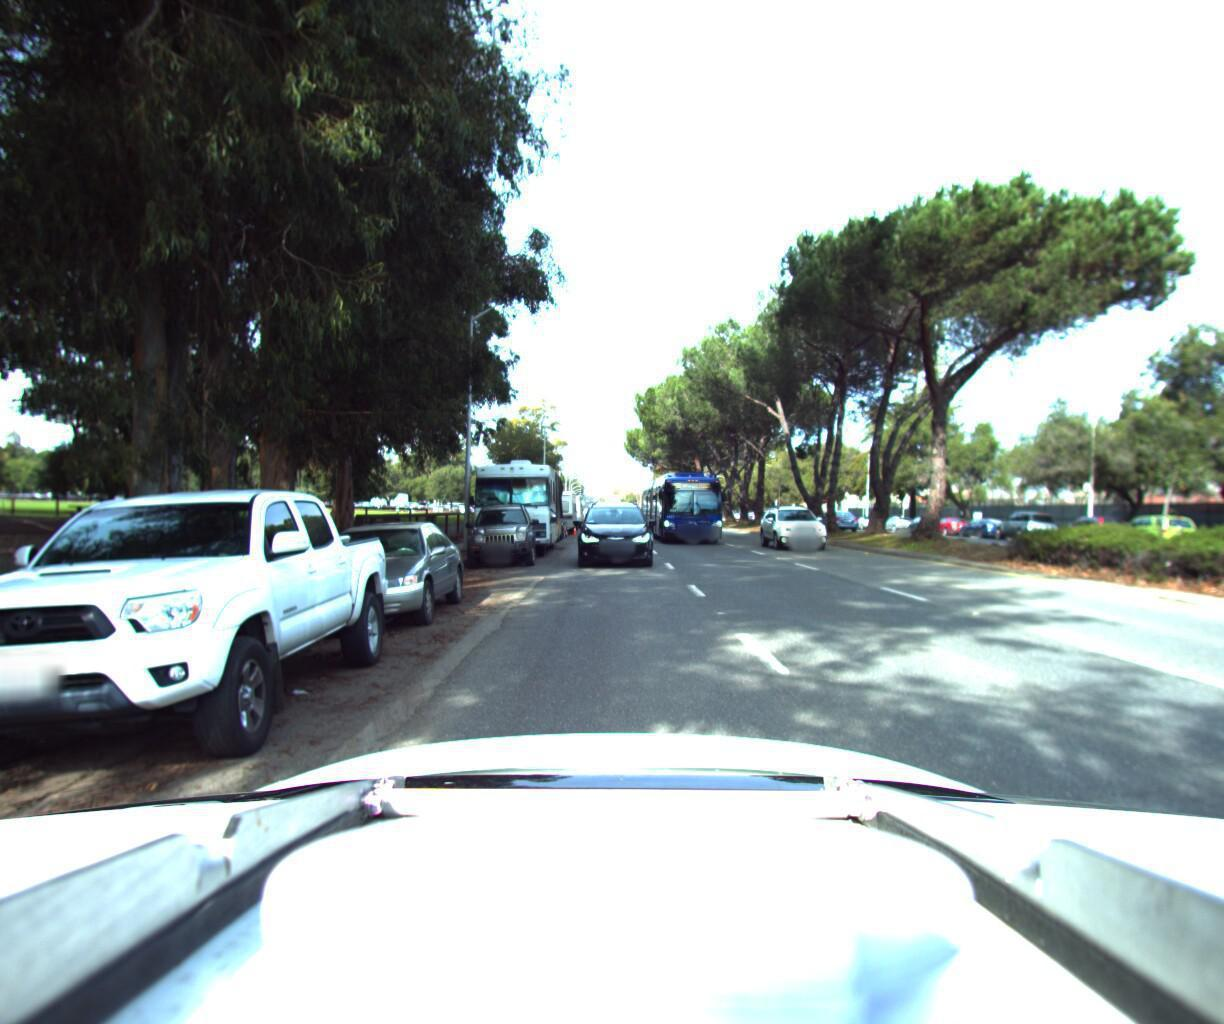bus: (642, 468, 731, 547)
car: (0, 466, 403, 818), (276, 513, 468, 640), (572, 492, 652, 566), (461, 497, 538, 565), (759, 498, 843, 549), (1104, 507, 1203, 545), (987, 504, 1060, 537), (954, 510, 1015, 535), (925, 509, 977, 534), (810, 503, 856, 524), (876, 506, 917, 528), (590, 498, 614, 518)
other_vehicle: (454, 447, 561, 556), (523, 464, 577, 531), (542, 481, 584, 525)
